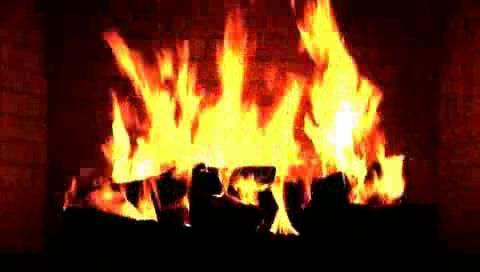fire: (96, 11, 395, 211)
